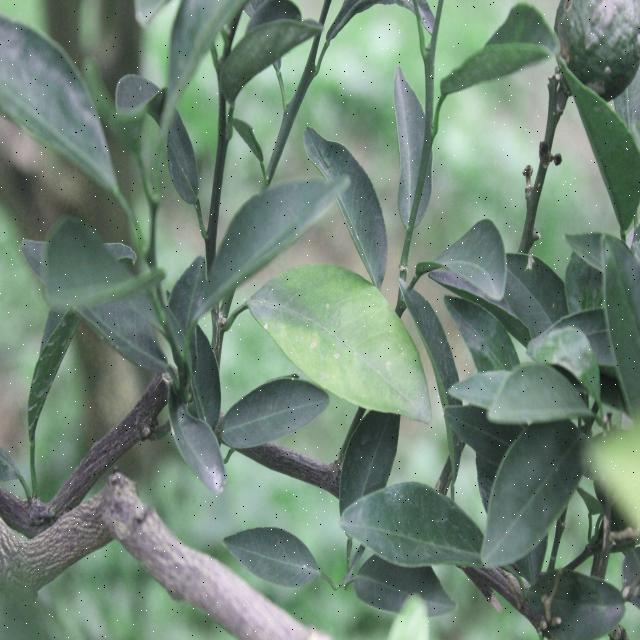greening: (263, 267, 405, 415)
